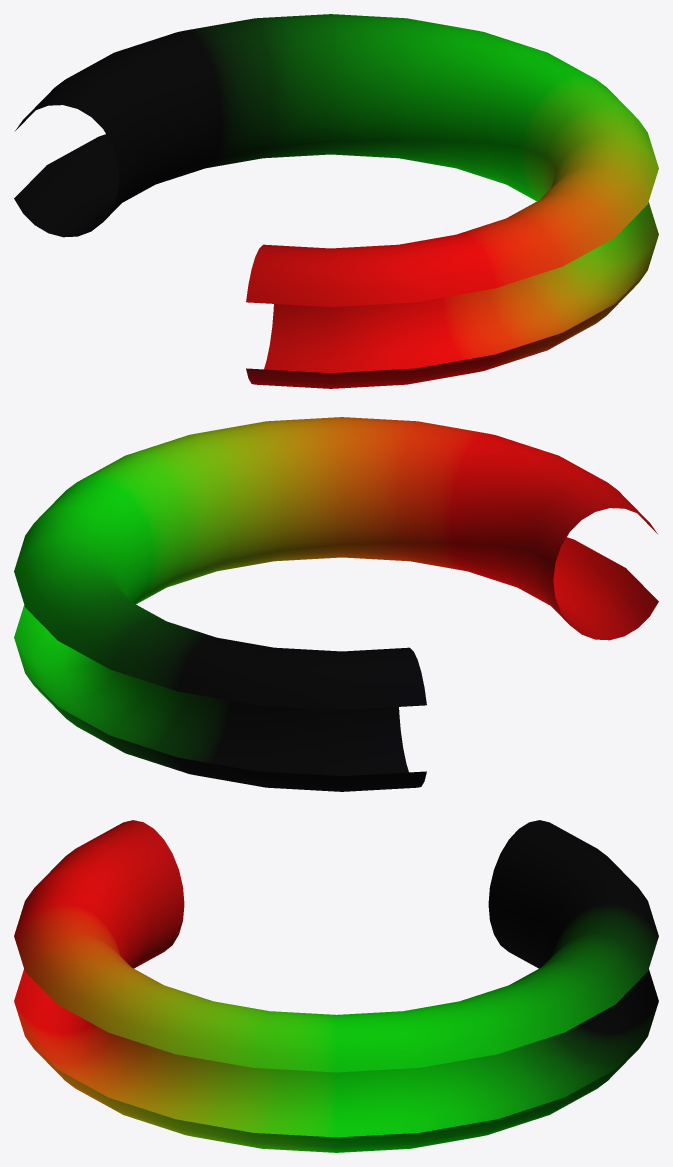
Rendered from uni_semidonut.fbx.
The picture shows the model from 3 angles, top to bottom: view 1: azimuth 30°, elevation 25°; view 2: azimuth 150°, elevation 25°; view 3: azimuth 270°, elevation 25°; orthographic projection.
Parts seen in each view (by area): view 1: uni_semidonut; view 2: uni_semidonut; view 3: uni_semidonut.
Part boxes in pixels (x1,y1,x2,y2): uni_semidonut: [14, 14, 658, 388]; uni_semidonut: [14, 417, 658, 791]; uni_semidonut: [14, 820, 658, 1152].
Bounding box in the file's own units: 28801 × 24583 × 6400.
